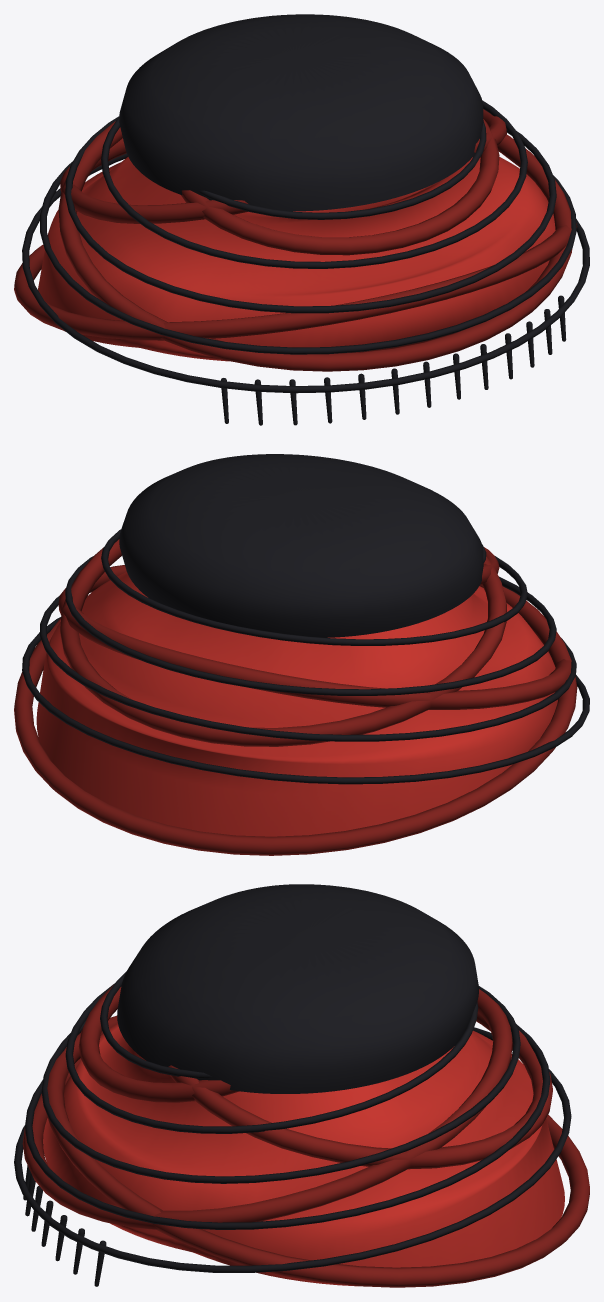
Rendered from hw_wrap.glb.
The picture shows the model from 3 angles, top to bottom: view 1: azimuth 30°, elevation 25°; view 2: azimuth 150°, elevation 25°; view 3: azimuth 270°, elevation 25°; orthographic projection. The views are drawn at different scales.
Parts seen in each view (by area): view 1: hw_wrap@pagri_top, hw_wrap, hw_wrap_folds, hw_wrap@check_c, hw_wrap@fringe_f; view 2: hw_wrap, hw_wrap@pagri_top, hw_wrap_folds, hw_wrap@check_c; view 3: hw_wrap@pagri_top, hw_wrap, hw_wrap_folds, hw_wrap@check_c, hw_wrap@fringe_f.
Part boxes in pixels (left/top/right/bottom): hw_wrap@pagri_top: left=119, top=14, right=483, bottom=211; hw_wrap: left=38, top=157, right=555, bottom=361; hw_wrap_folds: left=14, top=109, right=577, bottom=371; hw_wrap@check_c: left=22, top=100, right=589, bottom=393; hw_wrap@fringe_f: left=221, top=295, right=566, bottom=425; hw_wrap: left=36, top=572, right=557, bottom=836; hw_wrap@pagri_top: left=119, top=454, right=483, bottom=637; hw_wrap_folds: left=14, top=539, right=577, bottom=855; hw_wrap@check_c: left=22, top=529, right=589, bottom=784; hw_wrap@pagri_top: left=117, top=884, right=478, bottom=1093; hw_wrap: left=43, top=1023, right=564, bottom=1286; hw_wrap_folds: left=22, top=985, right=589, bottom=1287; hw_wrap@check_c: left=14, top=971, right=571, bottom=1272; hw_wrap@fringe_f: left=23, top=1144, right=106, bottom=1286.
Size of the model in its own units: 0.9687 by 0.466 by 0.9118.
